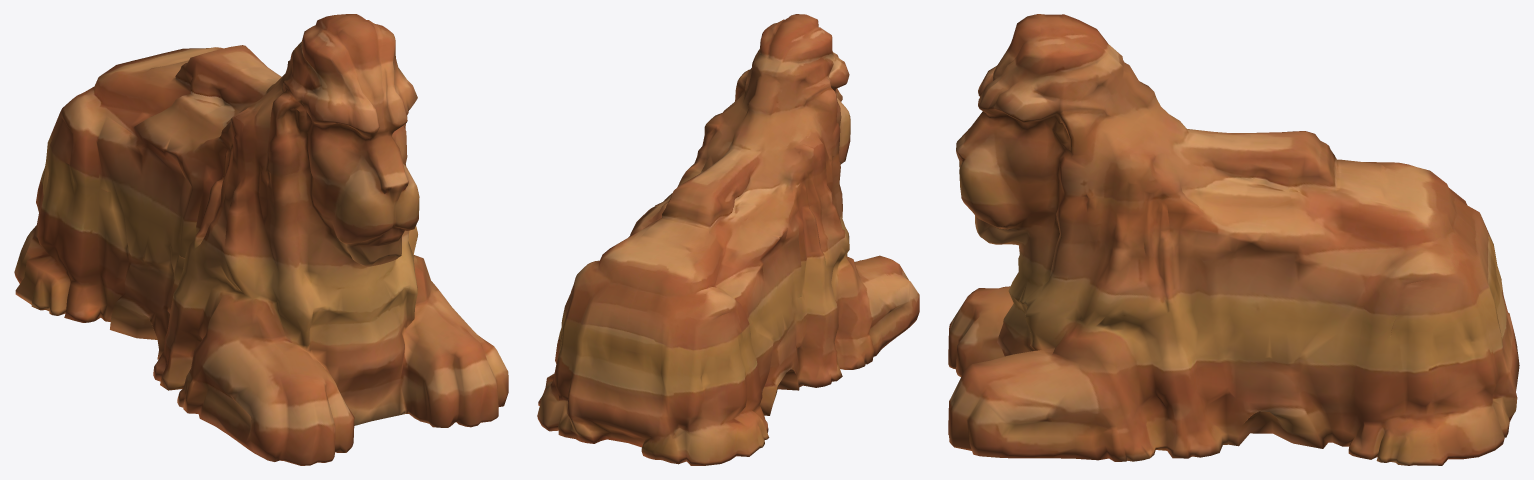
The model's file is SM_Tripo_DesertYardangSphinx.glb.
The picture shows the model from 3 angles, left to right: view 1: azimuth 30°, elevation 25°; view 2: azimuth 150°, elevation 25°; view 3: azimuth 270°, elevation 25°; orthographic projection. The views are drawn at different scales.
Parts seen in each view (by area): view 1: SM_Tripo_DesertYardangSphinx_LOD0; view 2: SM_Tripo_DesertYardangSphinx_LOD0; view 3: SM_Tripo_DesertYardangSphinx_LOD0.
Boxes of the visible parts, left/top/right/bottom form: SM_Tripo_DesertYardangSphinx_LOD0: left=14, top=14, right=508, bottom=465; SM_Tripo_DesertYardangSphinx_LOD0: left=537, top=14, right=919, bottom=465; SM_Tripo_DesertYardangSphinx_LOD0: left=948, top=14, right=1519, bottom=465.
Size of the model in its own units: 9.57 by 13 by 17.47.
Materials: 1 (1 with a texture image).
